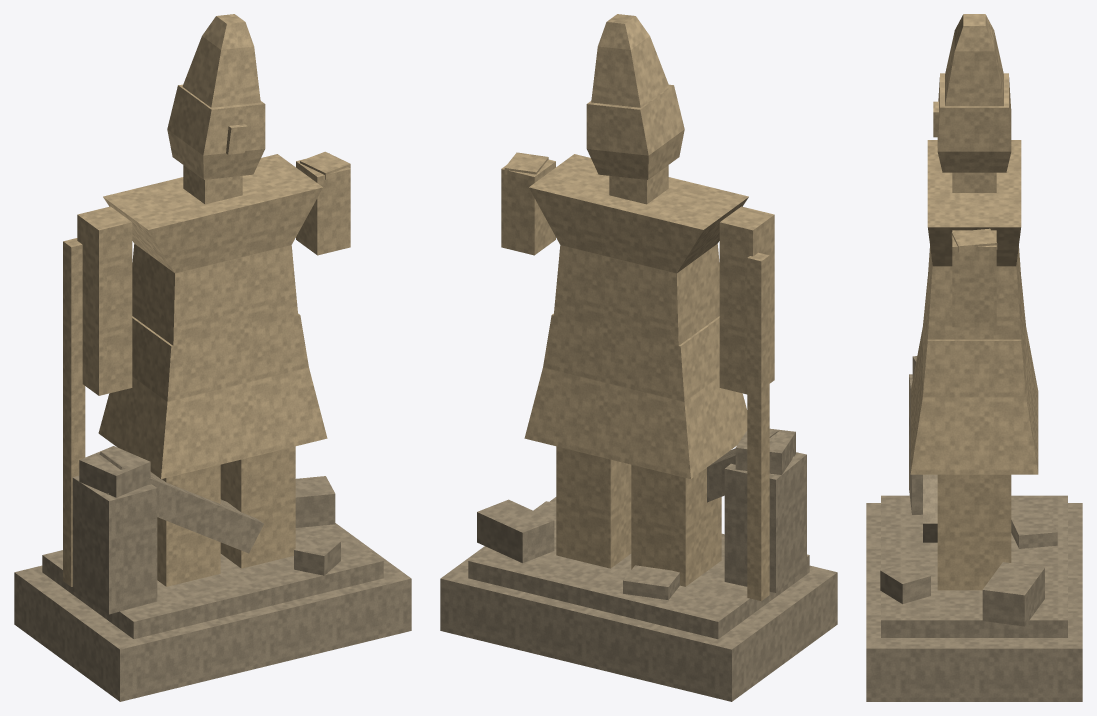
The model's file is Basin_Gate_Statue.glb.
The picture shows the model from 3 angles, left to right: view 1: azimuth 30°, elevation 25°; view 2: azimuth 150°, elevation 25°; view 3: azimuth 270°, elevation 25°; orthographic projection. The views are drawn at different scales.
Visible parts, largest first — view 1: Basin_Gate_Statue__Body, Basin_Gate_Statue__Base, Basin_Gate_Statue__Head; view 2: Basin_Gate_Statue__Body, Basin_Gate_Statue__Base, Basin_Gate_Statue__Head; view 3: Basin_Gate_Statue__Body, Basin_Gate_Statue__Base, Basin_Gate_Statue__Head.
Part boxes in pixels (box(x1,y1,x2,y2)): Basin_Gate_Statue__Body: box(63, 151, 350, 586); Basin_Gate_Statue__Base: box(14, 446, 411, 701); Basin_Gate_Statue__Head: box(167, 14, 265, 179); Basin_Gate_Statue__Body: box(501, 152, 774, 601); Basin_Gate_Statue__Base: box(440, 428, 837, 701); Basin_Gate_Statue__Head: box(586, 14, 684, 179); Basin_Gate_Statue__Body: box(910, 140, 1038, 590); Basin_Gate_Statue__Base: box(866, 356, 1082, 701); Basin_Gate_Statue__Head: box(933, 14, 1011, 172).
Bounding box in the file's own units: 70 × 139 × 44.
Materials: 2 (2 with a texture image).
